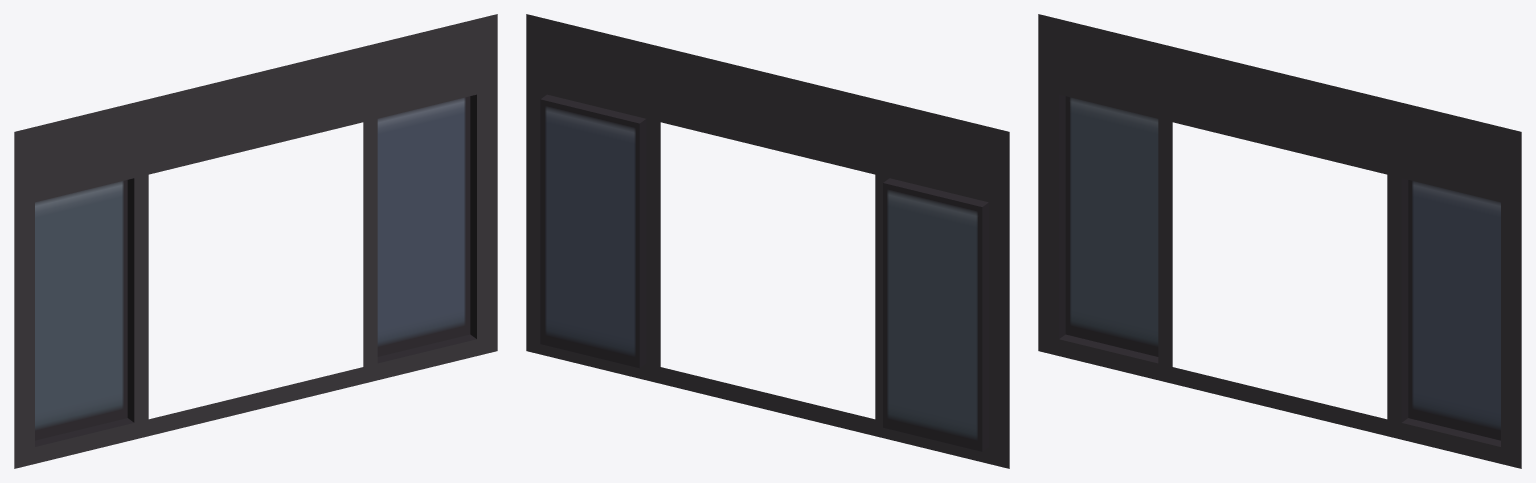
File: Bock_G2(0).fbx
3 views of the same model, side by side, from view 1: azimuth 30°, elevation 25°; view 2: azimuth 150°, elevation 25°; view 3: azimuth 330°, elevation 25° (orthographic).
Parts seen in each view (by area): view 1: Bock_G2; view 2: Bock_G2; view 3: Bock_G2.
Boxes of the visible parts, x1,y1,x2,y2 form: Bock_G2: [14, 14, 497, 468]; Bock_G2: [526, 14, 1009, 468]; Bock_G2: [1038, 14, 1521, 468].
Bounding box in the file's own units: 600 × 400 × 14.14.
